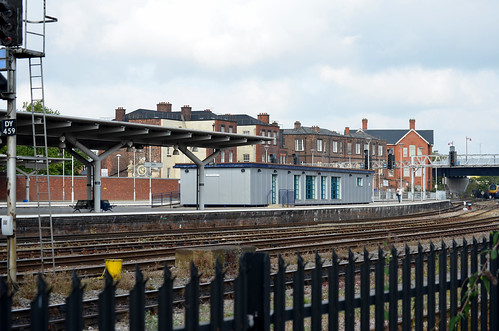building: (181, 162, 370, 203), (137, 99, 241, 164), (284, 125, 381, 171), (373, 122, 428, 198), (238, 111, 287, 164)
sky: (64, 1, 491, 129)
train track: (1, 213, 499, 324)
